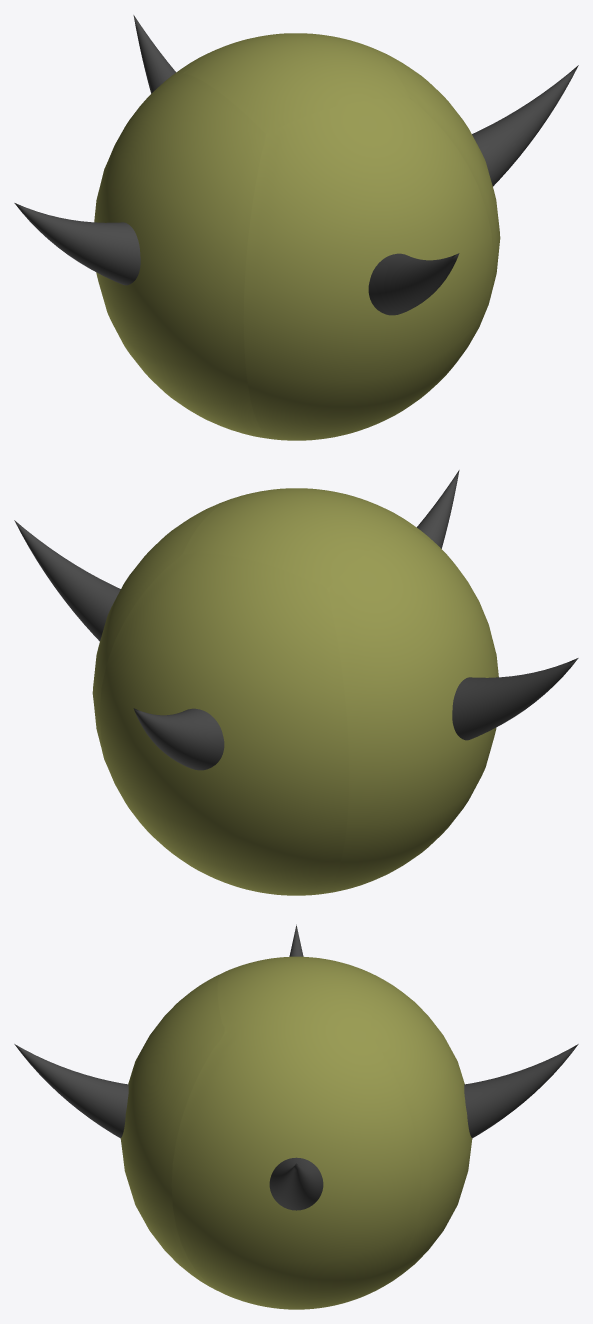
The picture shows the model from 3 angles, top to bottom: view 1: azimuth 30°, elevation 25°; view 2: azimuth 150°, elevation 25°; view 3: azimuth 270°, elevation 25°; orthographic projection. The views are drawn at different scales.
Parts seen in each view (by area): view 1: Body(Spherical)+Colour(6070106_6070106)+Pattern(Solid)+_352b, Arm002, Arm001, Arm004, Arm003; view 2: Body(Spherical)+Colour(6070106_6070106)+Pattern(Solid)+_352b, Arm002, Arm003, Arm001, Arm004; view 3: Body(Spherical)+Colour(6070106_6070106)+Pattern(Solid)+_352b, Arm003, Arm004, Arm001.
Part boxes in pixels (box(x1,y1,x2,y2)): Body(Spherical)+Colour(6070106_6070106)+Pattern(Solid)+_352b: box(94, 33, 500, 440); Arm002: box(14, 203, 140, 285); Arm001: box(472, 65, 578, 186); Arm004: box(368, 253, 459, 315); Arm003: box(133, 15, 175, 93); Body(Spherical)+Colour(6070106_6070106)+Pattern(Solid)+_352b: box(92, 488, 498, 895); Arm002: box(452, 658, 578, 740); Arm003: box(133, 708, 224, 770); Arm001: box(14, 520, 120, 641); Arm004: box(417, 470, 459, 548); Body(Spherical)+Colour(6070106_6070106)+Pattern(Solid)+_352b: box(120, 956, 472, 1309); Arm003: box(464, 1044, 578, 1138); Arm004: box(14, 1044, 128, 1138); Arm001: box(269, 1157, 323, 1210).
Bounding box in the file's own units: 1.63 × 1.02 × 1.63.
2 materials, 2 textured.
